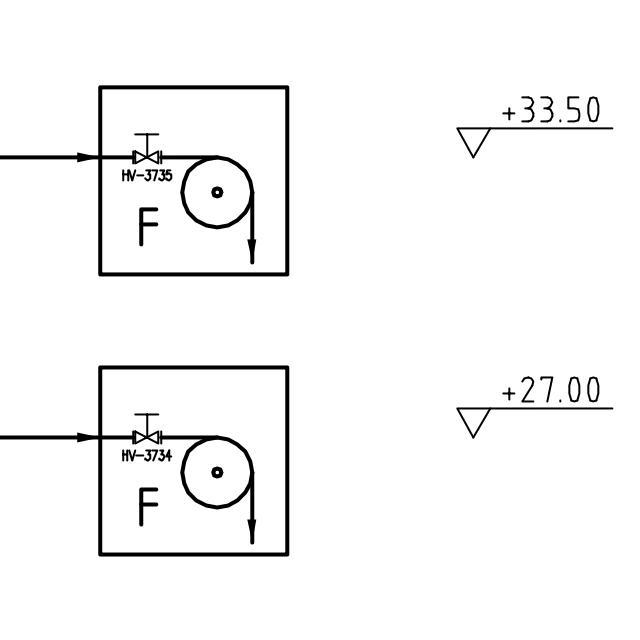HVWT: (129, 407, 165, 446), (129, 126, 163, 166)
